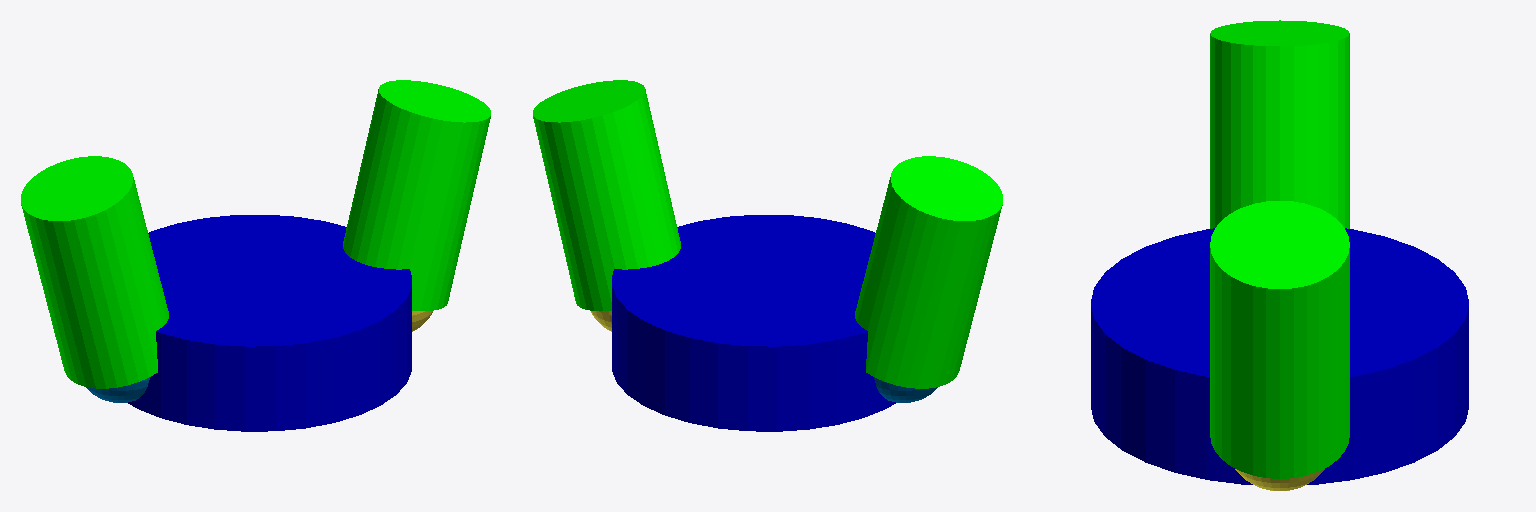
robot.urdf — gripper_2f_1j:
<?xml version='1.0' encoding='UTF-8'?>
<robot name="gripper_2f_1j">
  <link name="palm">
    <inertial>
      <origin xyz="0.0 0.0 0.0" rpy="0.0 -0.0 0.0"/>
      <mass value="1.0"/>
      <inertia ixx="1.0" ixy="0.0" ixz="0.0" iyy="1.0" iyz="0.0" izz="1.0"/>
    </inertial>
    <visual>
      <geometry>
        <cylinder radius="0.05" length="0.03"/>
      </geometry>
      <material name="blue"/>
      <origin xyz="0.0 0.0 0.0" rpy="0.0 -0.0 0.0"/>
    </visual>
    <collision>
      <geometry>
        <cylinder radius="0.05" length="0.03"/>
      </geometry>
      <origin xyz="0.0 0.0 0.0" rpy="0.0 0.0 0.0"/>
    </collision>
  </link>
  <link name="f11">
    <inertial>
      <origin xyz="0.0 0.0 0.0" rpy="0.0 -0.0 0.0"/>
      <mass value="1.0"/>
      <inertia ixx="1.0" ixy="0.0" ixz="0.0" iyy="1.0" iyz="0.0" izz="1.0"/>
    </inertial>
    <visual>
      <geometry>
        <cylinder radius="0.01847077660854132" length="0.06475688245435796"/>
      </geometry>
      <material name="green"/>
      <origin xyz="0.0 0.0 0.03237844122717898" rpy="0.0 -0.0 0.0"/>
    </visual>
    <collision>
      <geometry>
        <cylinder radius="0.01847077660854132" length="0.06475688245435796"/>
      </geometry>
      <origin xyz="0.0 0.0 0.05" rpy="0.0 0.0 0.0"/>
    </collision>
  </link>
  <link name="f21">
    <inertial>
      <origin xyz="0.0 0.0 0.0" rpy="0.0 -0.0 0.0"/>
      <mass value="1.0"/>
      <inertia ixx="1.0" ixy="0.0" ixz="0.0" iyy="1.0" iyz="0.0" izz="1.0"/>
    </inertial>
    <visual>
      <geometry>
        <cylinder radius="0.01847077660854132" length="0.06475688245435796"/>
      </geometry>
      <material name="green"/>
      <origin xyz="0.0 0.0 0.03237844122717898" rpy="0.0 -0.0 0.0"/>
    </visual>
    <collision>
      <geometry>
        <cylinder radius="0.01847077660854132" length="0.06475688245435796"/>
      </geometry>
      <origin xyz="0.0 0.0 0.05" rpy="0.0 0.0 0.0"/>
    </collision>
  </link>
  <link name="f11_base">
    <inertial>
      <origin xyz="0.0 0.0 0.0" rpy="0.0 -0.0 0.0"/>
      <mass value="1.0"/>
      <inertia ixx="1.0" ixy="0.0" ixz="0.0" iyy="1.0" iyz="0.0" izz="1.0"/>
    </inertial>
    <visual>
      <geometry>
        <sphere radius="0.015"/>
      </geometry>
      <origin xyz="0.0 0.0 0.0" rpy="0.0 -0.0 0.0"/>
    </visual>
  </link>
  <link name="f21_base">
    <inertial>
      <origin xyz="0.0 0.0 0.0" rpy="0.0 -0.0 0.0"/>
      <mass value="1.0"/>
      <inertia ixx="1.0" ixy="0.0" ixz="0.0" iyy="1.0" iyz="0.0" izz="1.0"/>
    </inertial>
    <visual>
      <geometry>
        <sphere radius="0.015"/>
      </geometry>
      <origin xyz="0.0 0.0 0.0" rpy="0.0 -0.0 0.0"/>
    </visual>
  </link>
  <joint name="f11_joint" type="revolute">
    <dynamics damping="100.0" friction="1.0"/>
    <limit effort="30.0" velocity="2.0" lower="-0.6" upper="0.25"/>
    <parent link="f11_base"/>
    <child link="f11"/>
    <axis xyz="0. 1. 0."/>
    <origin xyz="0.0 0.0 0.0" rpy="0.0 0.25 0.0"/>
  </joint>
  <joint name="f21_joint" type="revolute">
    <dynamics damping="100.0" friction="1.0"/>
    <limit effort="30.0" velocity="2.0" lower="-0.6" upper="0.25"/>
    <parent link="f21_base"/>
    <child link="f21"/>
    <axis xyz=" 0. -1.  0."/>
    <origin xyz="0.0 0.0 0.0" rpy="0.0 -0.25 0.0"/>
  </joint>
  <joint name="f11_base_joint" type="fixed">
    <parent link="palm"/>
    <child link="f11_base"/>
    <axis xyz="1. 0. 0."/>
    <origin xyz="0.05 0.0 0.0" rpy="0.0 0.0 0.0"/>
  </joint>
  <joint name="f21_base_joint" type="fixed">
    <parent link="palm"/>
    <child link="f21_base"/>
    <axis xyz="1. 0. 0."/>
    <origin xyz="-0.05 -0.0 0.0" rpy="0.0 0.0 0.0"/>
  </joint>
  <material name="blue">
    <color rgba="0.  0.  0.8 1. "/>
  </material>
  <material name="green">
    <color rgba="0. 1. 0. 1."/>
  </material>
</robot>

--- Render facts (derived) ---
3 views of the same robot in one strip: view 1: azimuth 30°, elevation 25°; view 2: azimuth 150°, elevation 25°; view 3: azimuth 270°, elevation 25° (orthographic).
Model gripper_2f_1j with 5 links and 4 joints (2 revolute, 2 fixed), rooted at palm, posed every joint at zero.
Links seen in each view (by area): view 1: palm, f21, f11, f21_base; view 2: palm, f21, f11, f21_base; view 3: palm, f11, f21, f11_base.
Boxes of the visible links, x1,y1,x2,y2 form: palm: (128,215,411,431); f21: (21,156,168,388); f11: (343,80,490,310); f21_base: (86,377,149,402); palm: (612,215,895,431); f21: (855,156,1002,388); f11: (533,80,680,310); f21_base: (874,377,937,402); palm: (1091,228,1468,484); f11: (1210,201,1349,478); f21: (1210,20,1349,228); f11_base: (1235,469,1324,490).
Size in the robot's own frame: 0.1678 by 0.1 by 0.0823 metres.
Geometry: primitives only (box / cylinder / sphere), no mesh files.